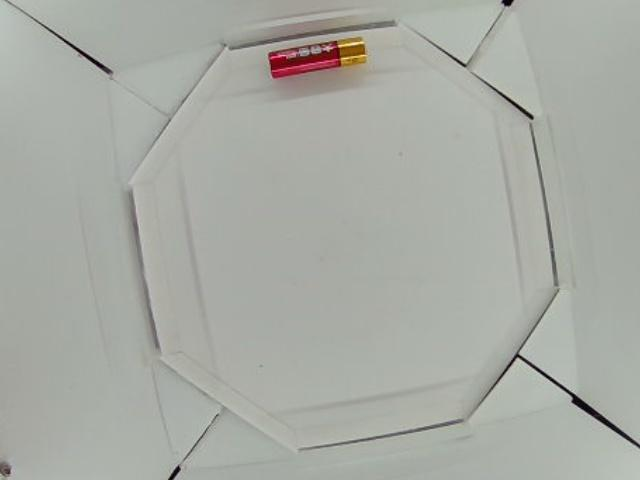Battery: (268, 37, 367, 76)
